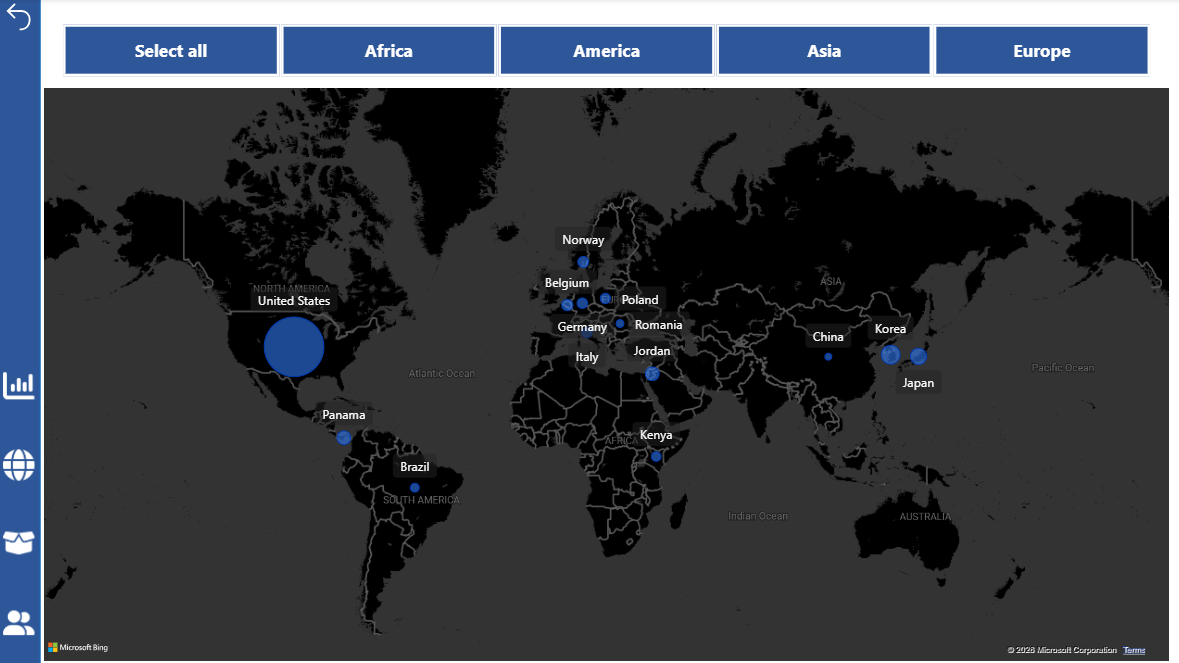

The page's visual inventory and layout, read from the dashboard file:
{"tool":"powerbi","page":{"name":"Map","canvas":[1280,720],"ordinal":1},"visuals":[{"type":"map","fields":{"Category":["Company_Lookup.HQLocation"],"Size":["Measure Table.Total Company Revenue"]},"box":[45.3,92.3,1224.1,628.3],"z":0},{"type":"slicer","fields":{"Values":["Company_Lookup.Continent"]},"box":[45,21.7,1223.3,70],"z":1000},{"type":"shape","box":[1.6,0,45.3,720.6],"z":2000},{"type":"image","box":[6.5,388.6,34,59.9],"z":3000},{"type":"image","box":[6.5,473.9,34,59.9],"z":4000},{"type":"image","box":[6.5,559.2,34,59.9],"z":5000},{"type":"image","box":[6.5,644.5,34,59.9],"z":6000},{"type":"actionButton","box":[3.2,0,40.5,40.5],"z":7000}]}

Visuals, with their boxes in screenshot pixels (x1, y1, x2, y2):
map - Company_Lookup.HQLocation x Measure Table.Total Company Revenue: bbox=[38, 87, 1150, 658]
slicer - Company_Lookup.Continent: bbox=[38, 23, 1149, 86]
shape: bbox=[0, 3, 40, 658]
image: bbox=[3, 356, 34, 410]
image: bbox=[3, 434, 34, 488]
image: bbox=[3, 511, 34, 565]
image: bbox=[3, 589, 34, 643]
actionButton: bbox=[0, 3, 37, 40]
